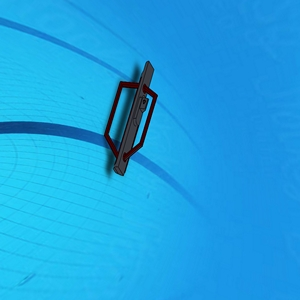submarine: (104, 61, 156, 172)
